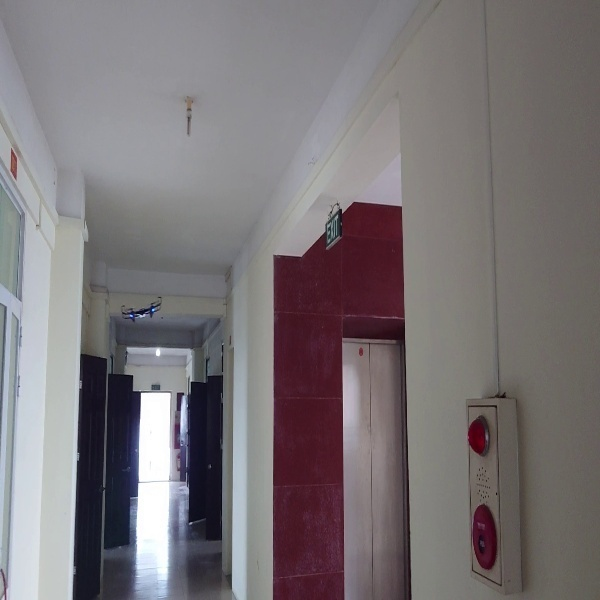drone: (116, 294, 164, 322)
